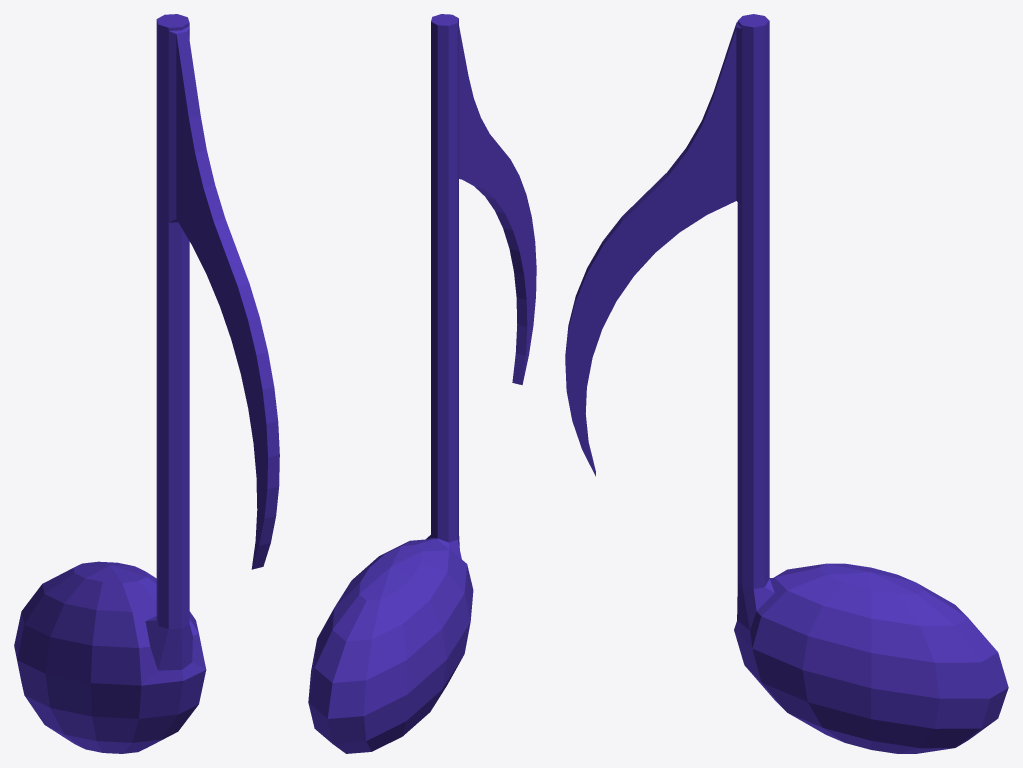
Rendered from music_2.obj.
3 renders of one model, left to right at view 1: azimuth 30°, elevation 25°; view 2: azimuth 150°, elevation 25°; view 3: azimuth 270°, elevation 25°, orthographic. The views are drawn at different scales.
Parts seen in each view (by area): view 1: Mesh_MusicNote; view 2: Mesh_MusicNote; view 3: Mesh_MusicNote.
Boxes of the visible parts, x1,y1,x2,y2 form: Mesh_MusicNote: (14, 14, 279, 753); Mesh_MusicNote: (308, 14, 536, 753); Mesh_MusicNote: (565, 14, 1008, 753).
Bounding box in the file's own units: 2.2 × 12.65 × 6.97.
